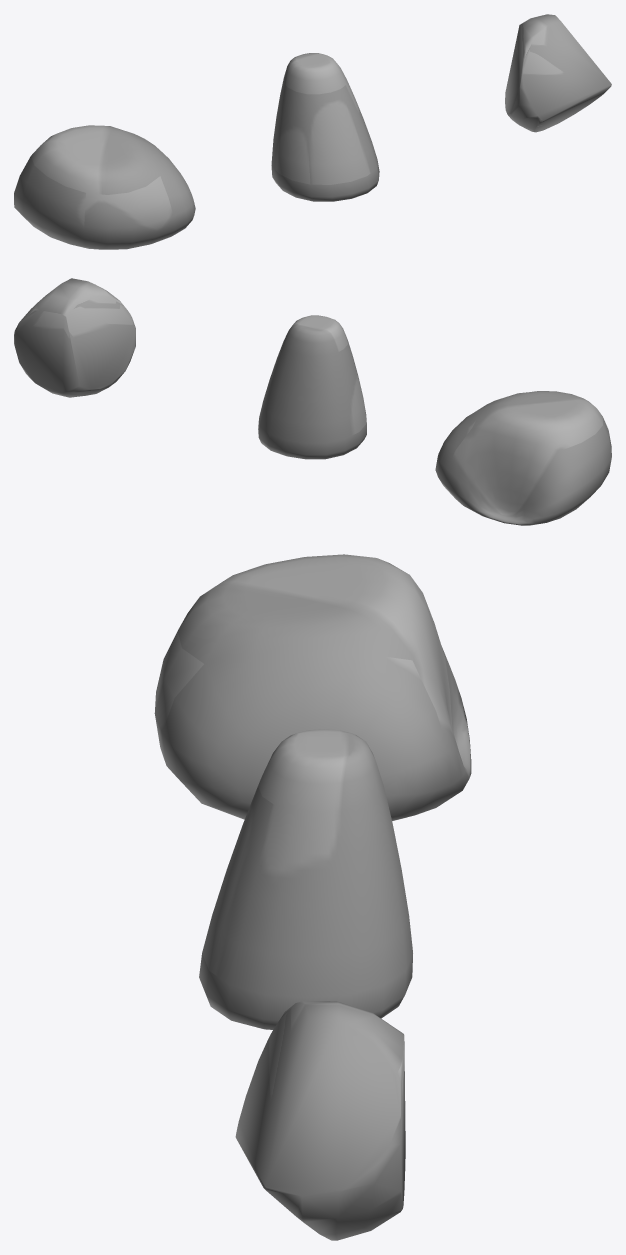
File: stones.glb
3 renders of one model, top to bottom at view 1: azimuth 30°, elevation 25°; view 2: azimuth 150°, elevation 25°; view 3: azimuth 270°, elevation 25°, orthographic. The views are drawn at different scales.
Parts seen in each view (by area): view 1: Cube, Cube.001, Cube.002; view 2: Cube, Cube.001, Cube.002; view 3: Cube, Cube.001, Cube.002.
Part boxes in pixels (x1=…): Cube: x1=14, y1=125, x2=195, y2=249; Cube.001: x1=271, y1=53, x2=379, y2=201; Cube.002: x1=505, y1=14, x2=611, y2=132; Cube: x1=435, y1=391, x2=611, y2=525; Cube.001: x1=258, y1=315, x2=366, y2=459; Cube.002: x1=14, y1=278, x2=135, y2=397; Cube: x1=154, y1=554, x2=471, y2=820; Cube.001: x1=199, y1=729, x2=412, y2=1029; Cube.002: x1=235, y1=1001, x2=405, y2=1240.
Bounding box in the file's own units: 9.87 × 2.07 × 2.37.
Materials: 1 (1 with a texture image).
